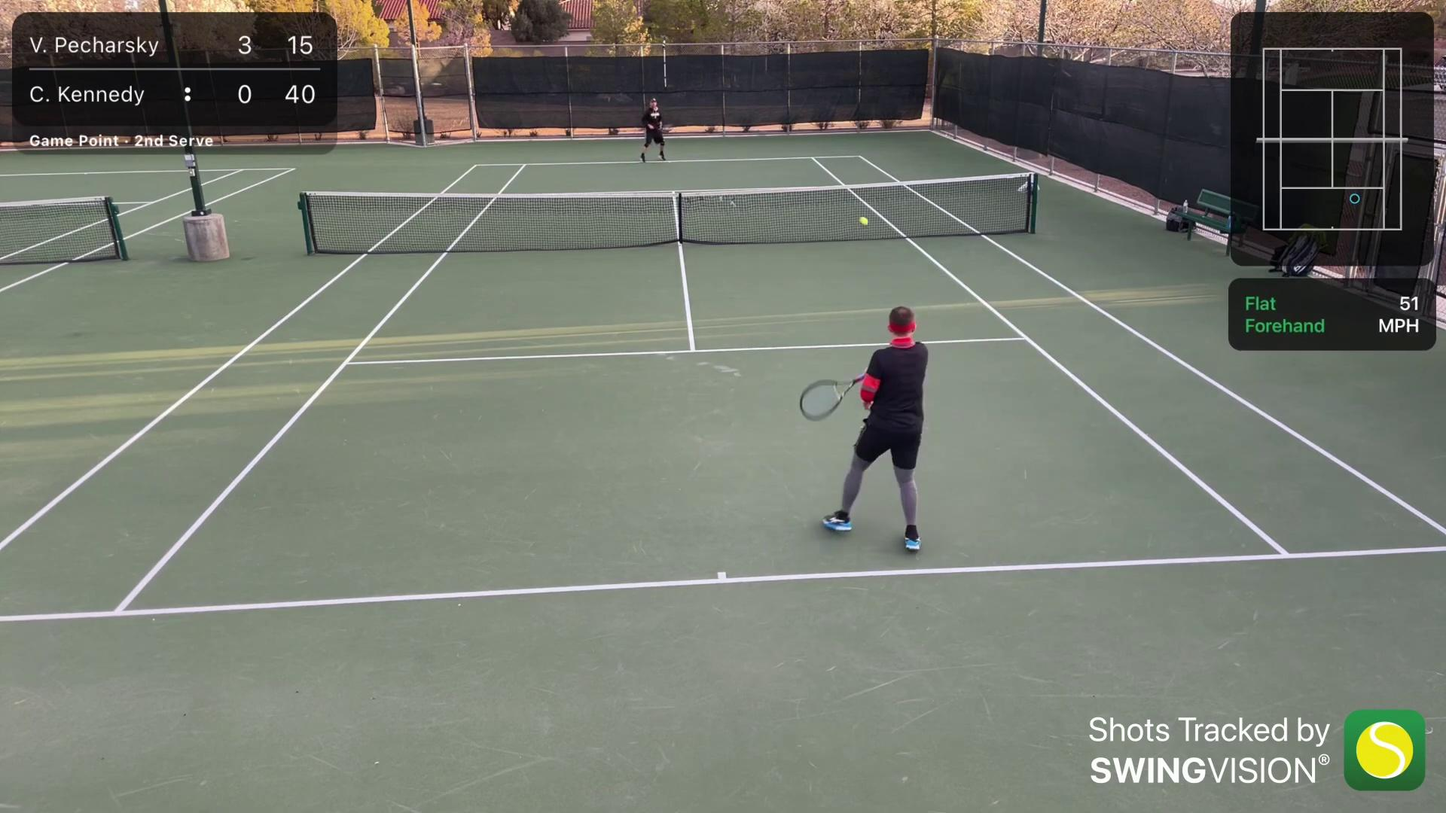ball: (857, 216, 872, 227)
